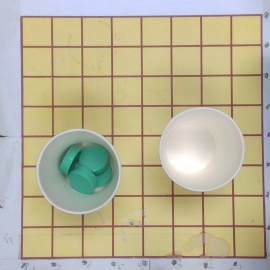cup: (156, 106, 245, 192)
cup_green: (36, 128, 121, 214)
